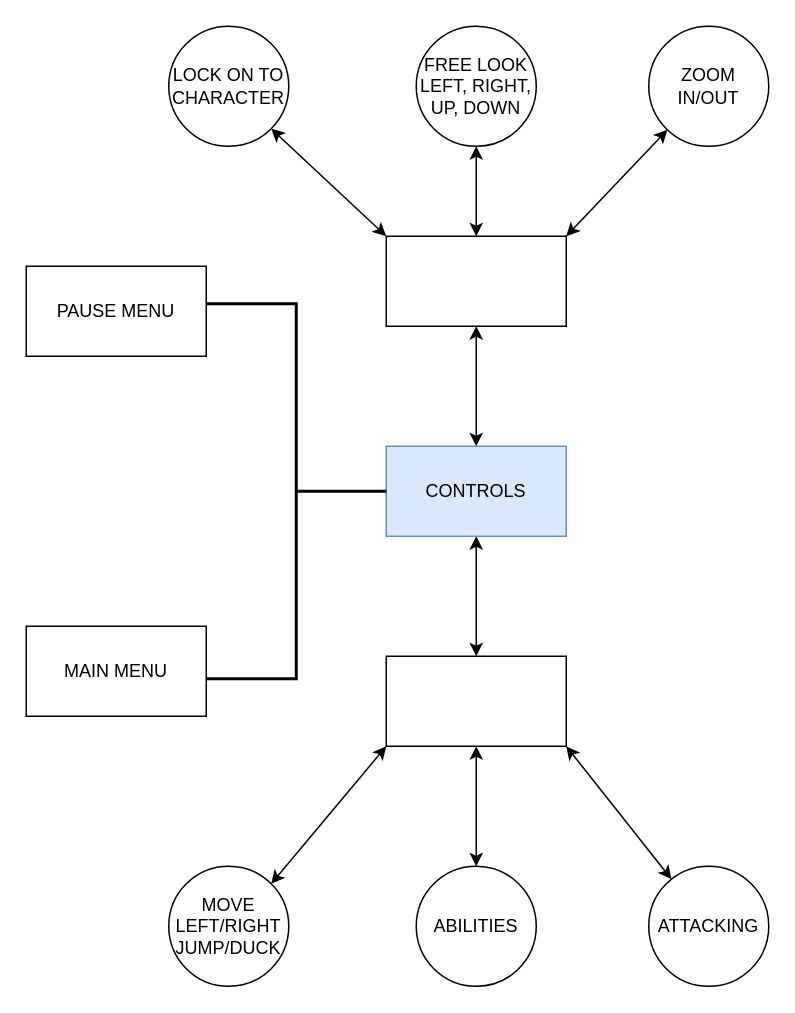
The diagram is 795 pixels wide and 1013 high, and some of its shapes have lost their labels. Each missing label, with the centre of its shape:
"CAMERA CONTROLS" goes at point (475, 280).
"CHARACTER CONTROLS" goes at point (475, 700).
